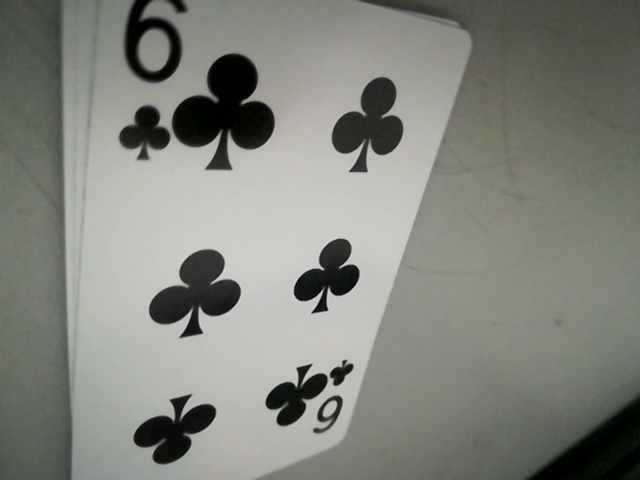mh 6: (110, 1, 187, 159), (302, 361, 356, 444)
